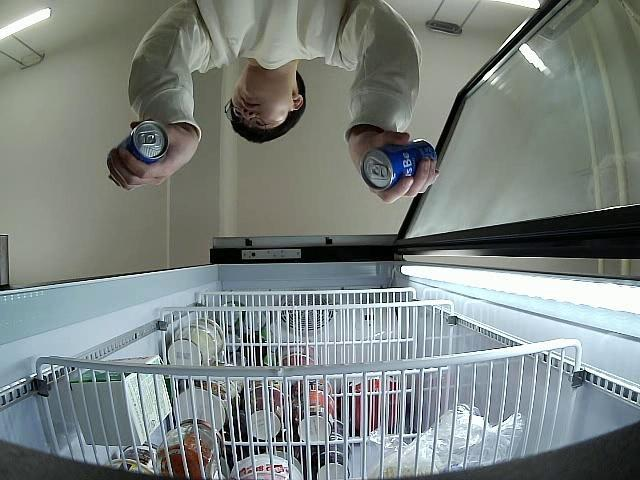15_letsbe: (360, 140, 437, 192), (107, 121, 169, 170)
